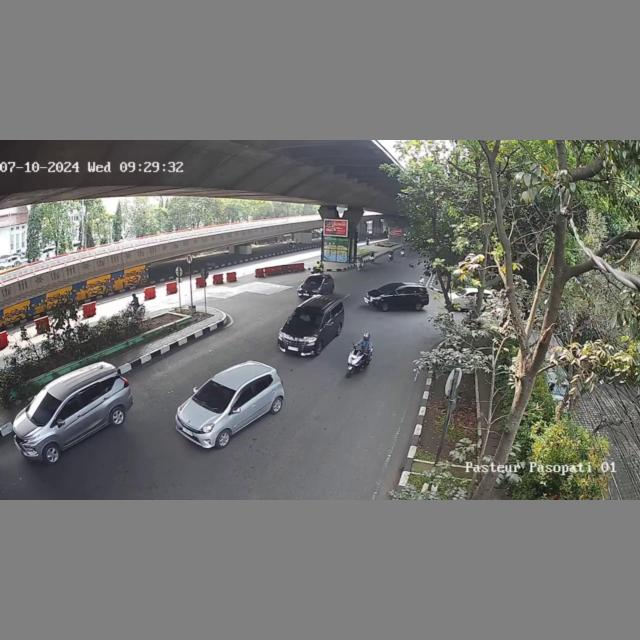windshield: (187, 378, 239, 410), (27, 389, 62, 418), (288, 307, 328, 327), (304, 278, 323, 287)
